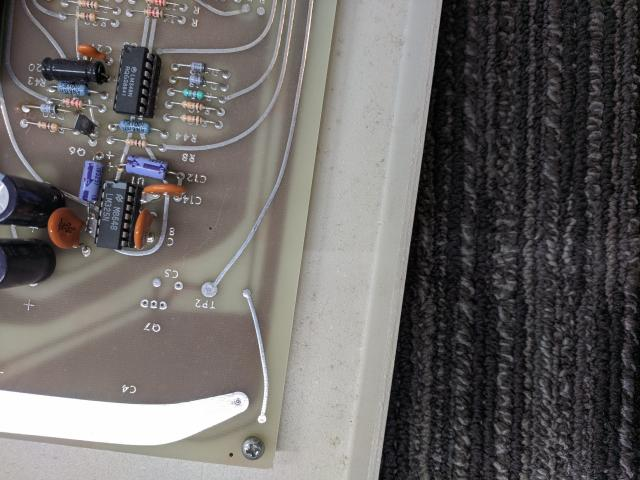CRS: (239, 438, 266, 459)
